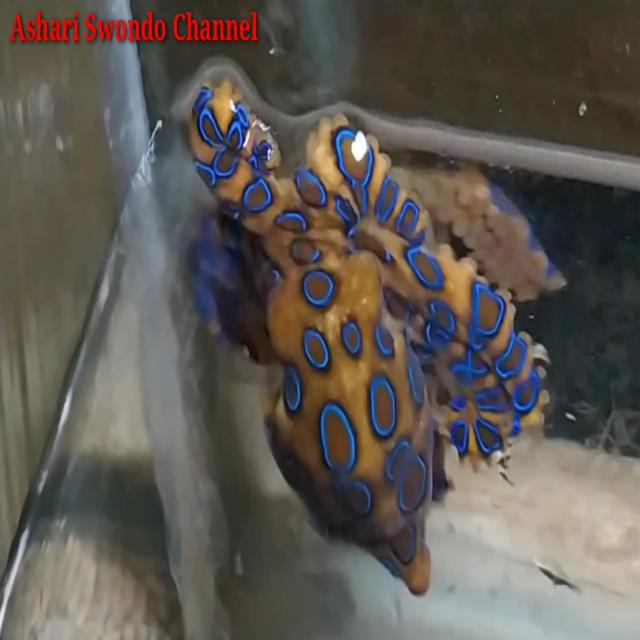blue_ringed_octopus: (186, 78, 549, 598)
